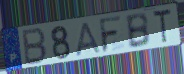8: (50, 24, 72, 60)
A: (75, 21, 102, 58)
B: (124, 11, 152, 50), (22, 27, 48, 67)
F: (98, 14, 123, 55)
T: (151, 7, 172, 45)
